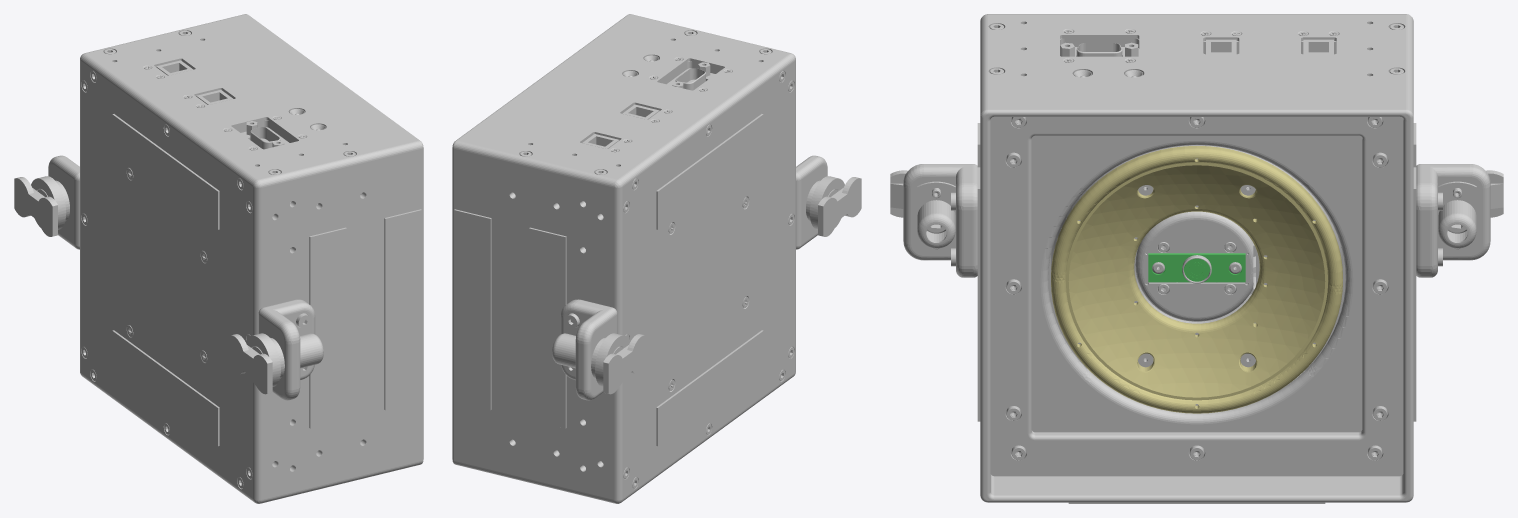
File: DokingPort.fbx
3 renders of one model, left to right at view 1: azimuth 30°, elevation 25°; view 2: azimuth 150°, elevation 25°; view 3: azimuth 270°, elevation 25°, orthographic. The views are drawn at different scales.
Parts seen in each view (by area): view 1: DockingStation; view 2: DockingStation; view 3: DockingStation.
Part boxes in pixels (<box>): DockingStation: <box>14,14,423,503</box>; DockingStation: <box>452,14,861,503</box>; DockingStation: <box>890,14,1503,503</box>.
Bounding box in the file's own units: 10.62 × 17 × 23.92.
